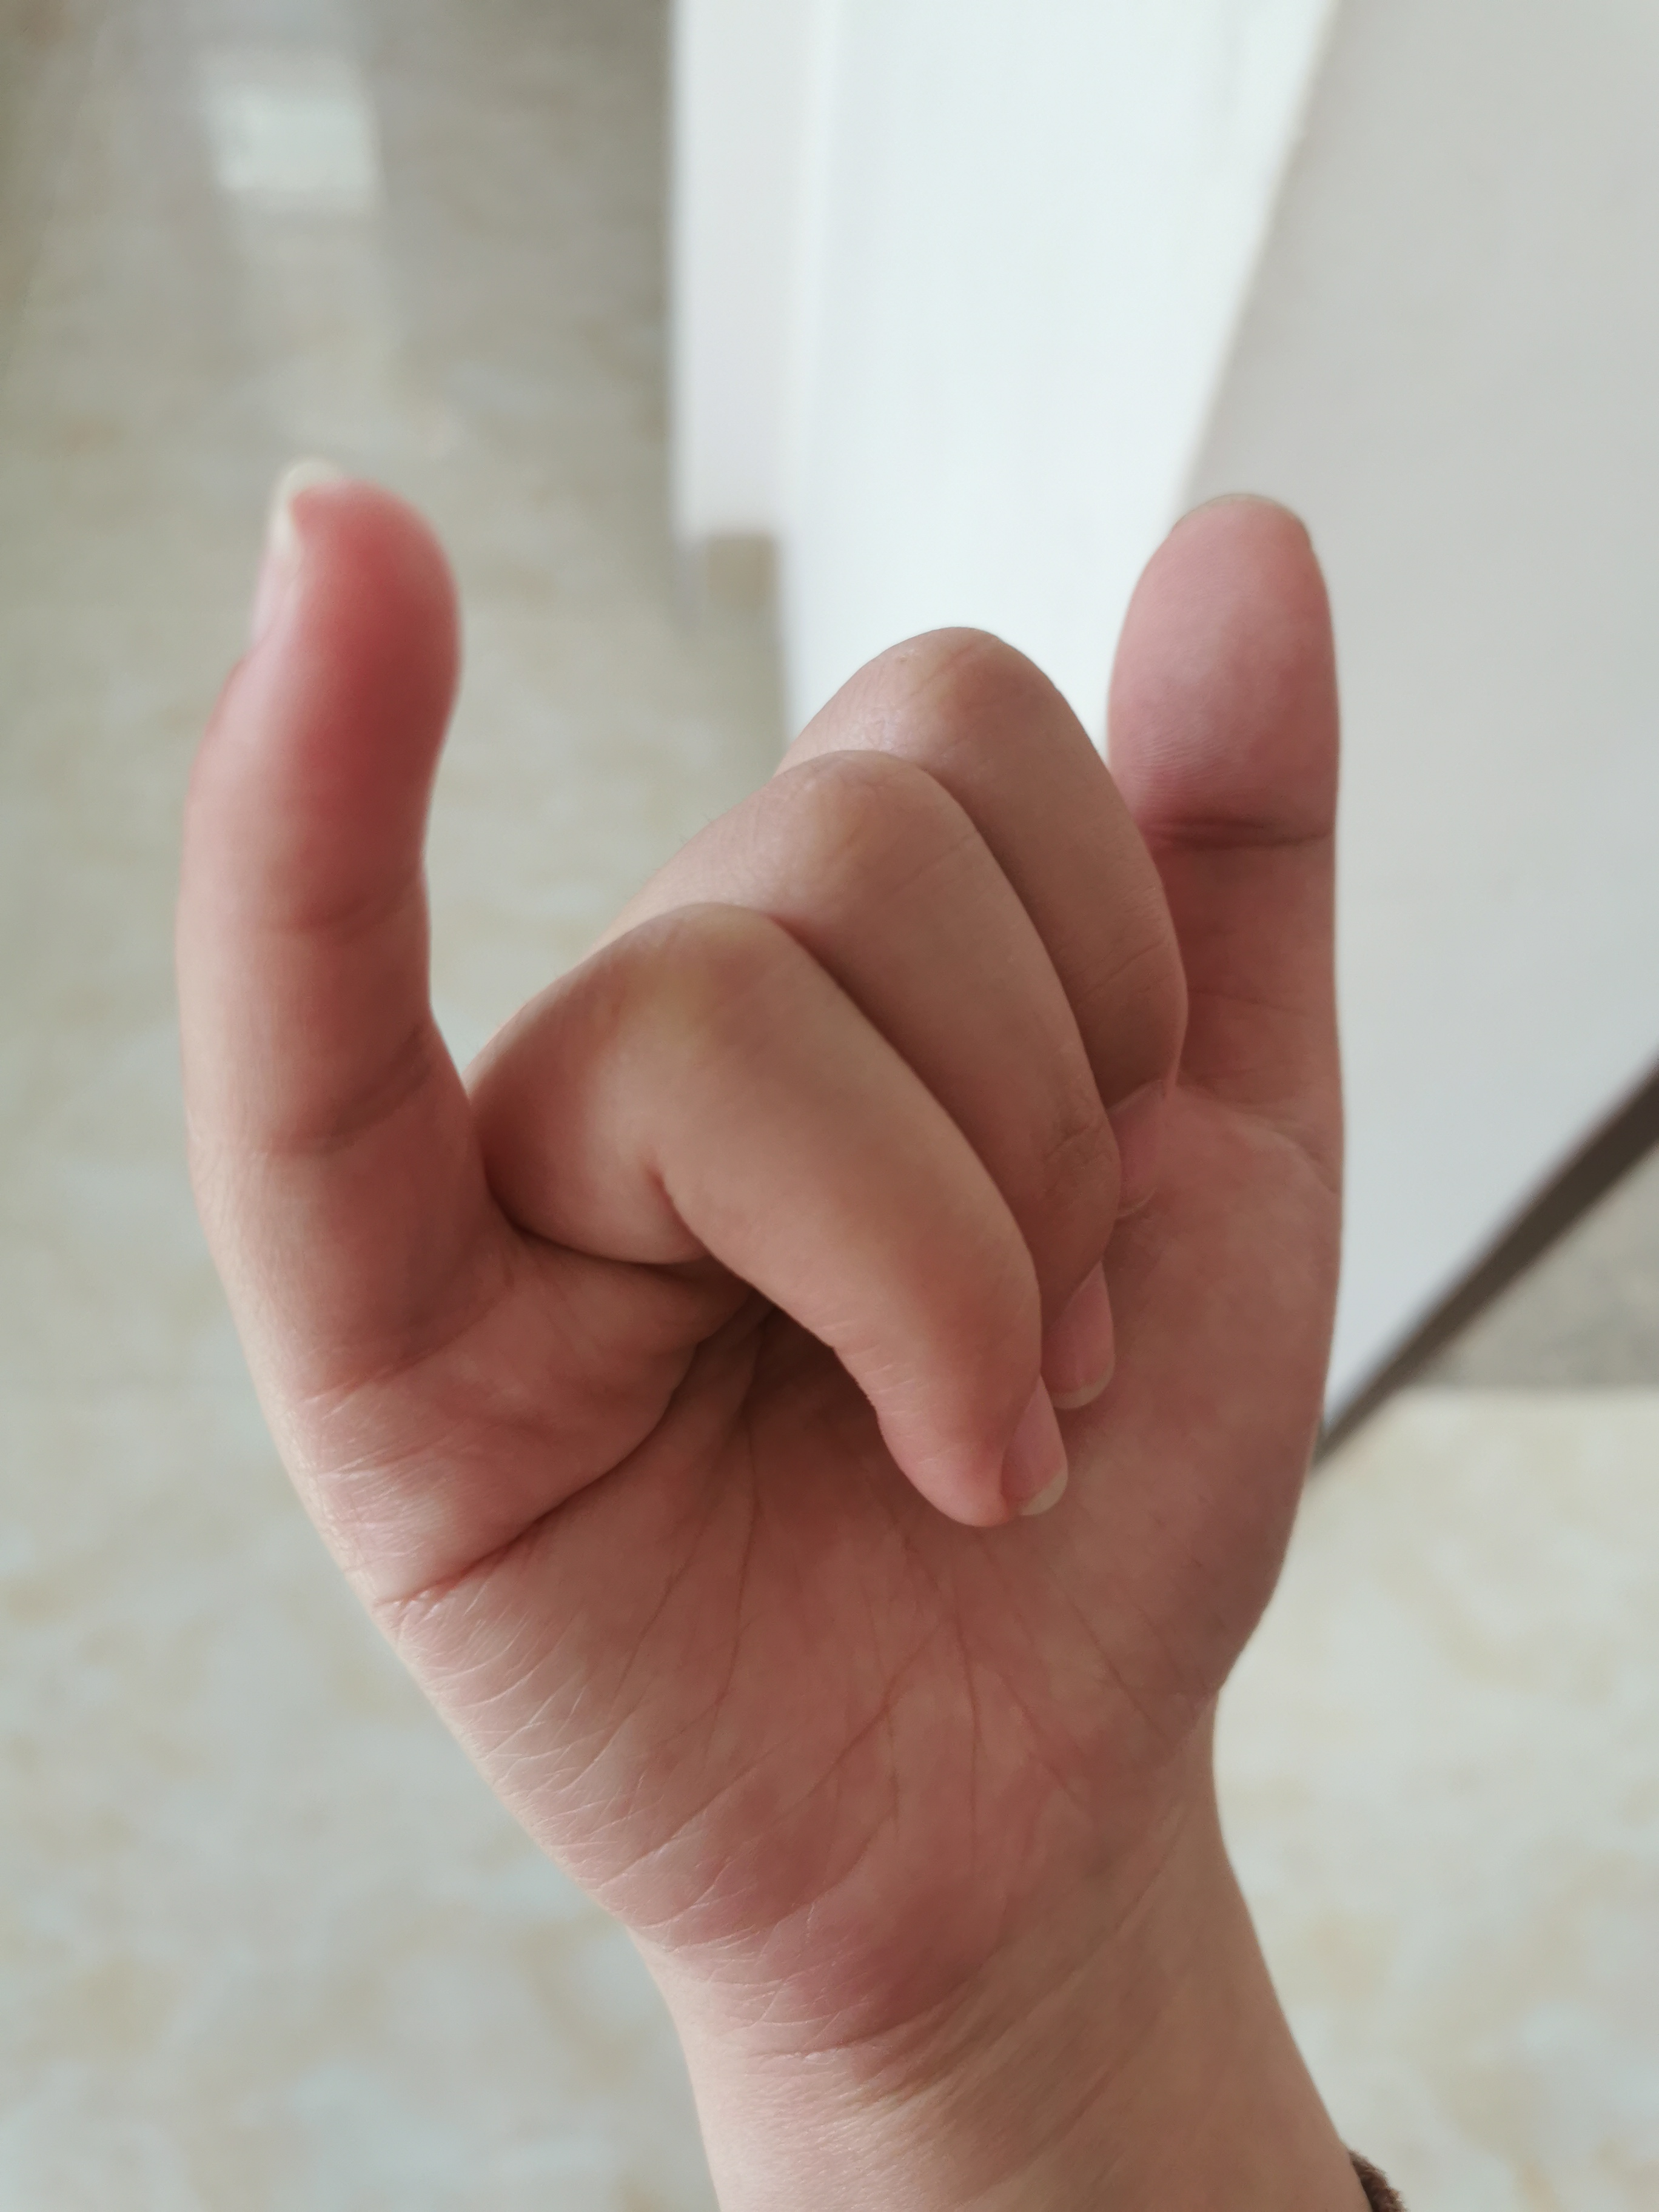clockwise: (159, 449, 1389, 1914)
